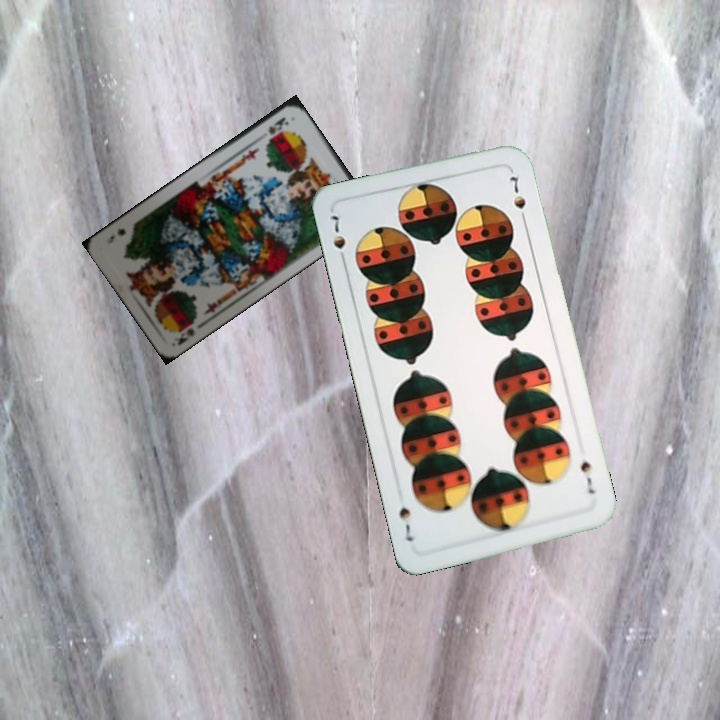S7: (327, 211, 349, 267), (576, 457, 598, 497)
SK: (264, 113, 291, 138), (173, 324, 197, 348)
